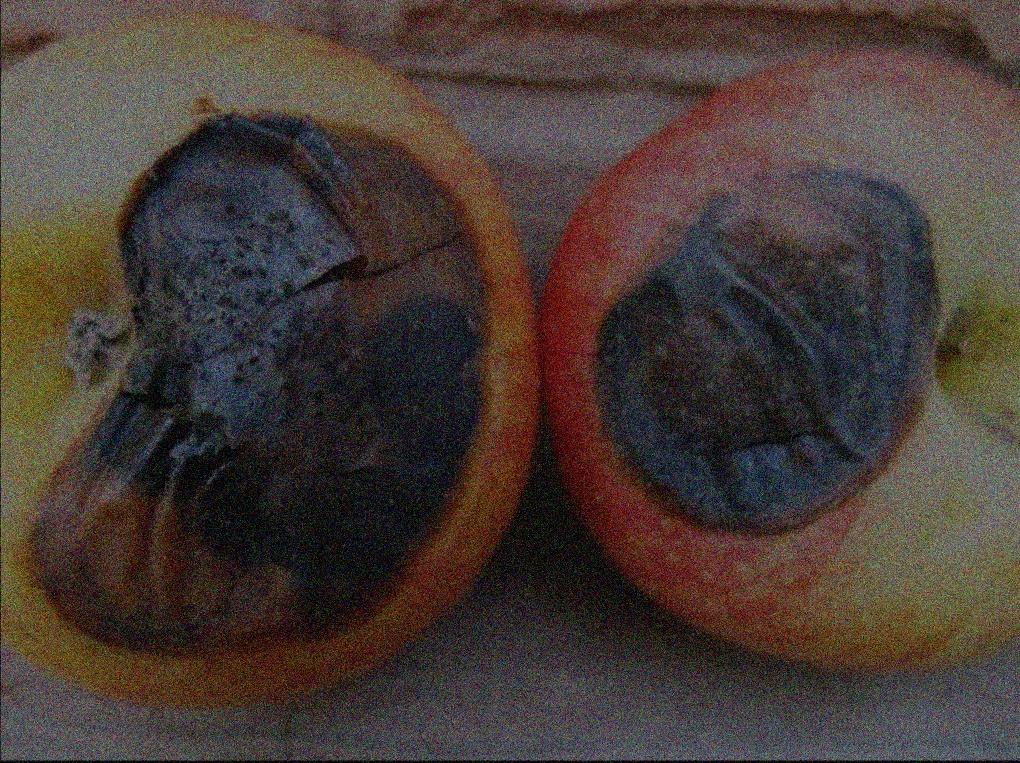rotten apple: (0, 8, 552, 708), (548, 44, 1017, 689)
